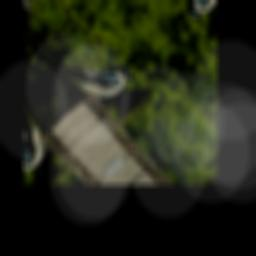Swallow: (39, 22, 137, 120)
